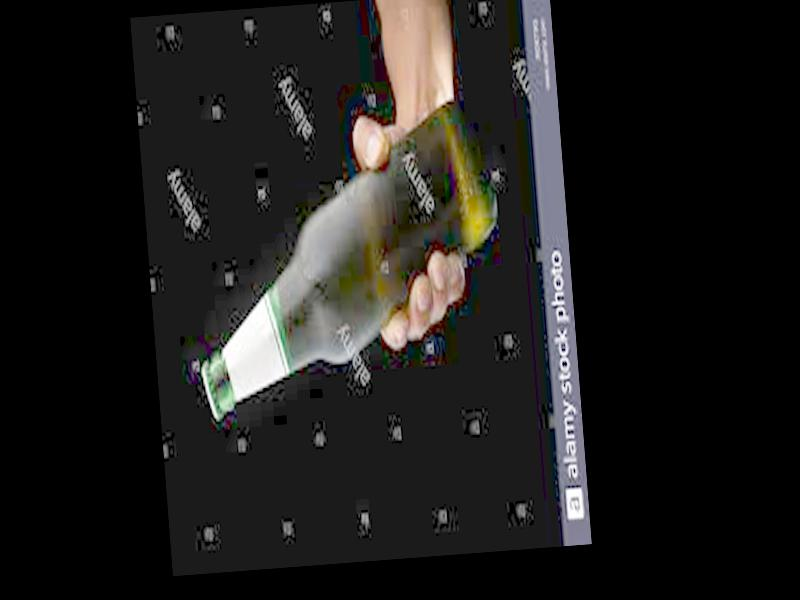Beer: (180, 97, 515, 424)
